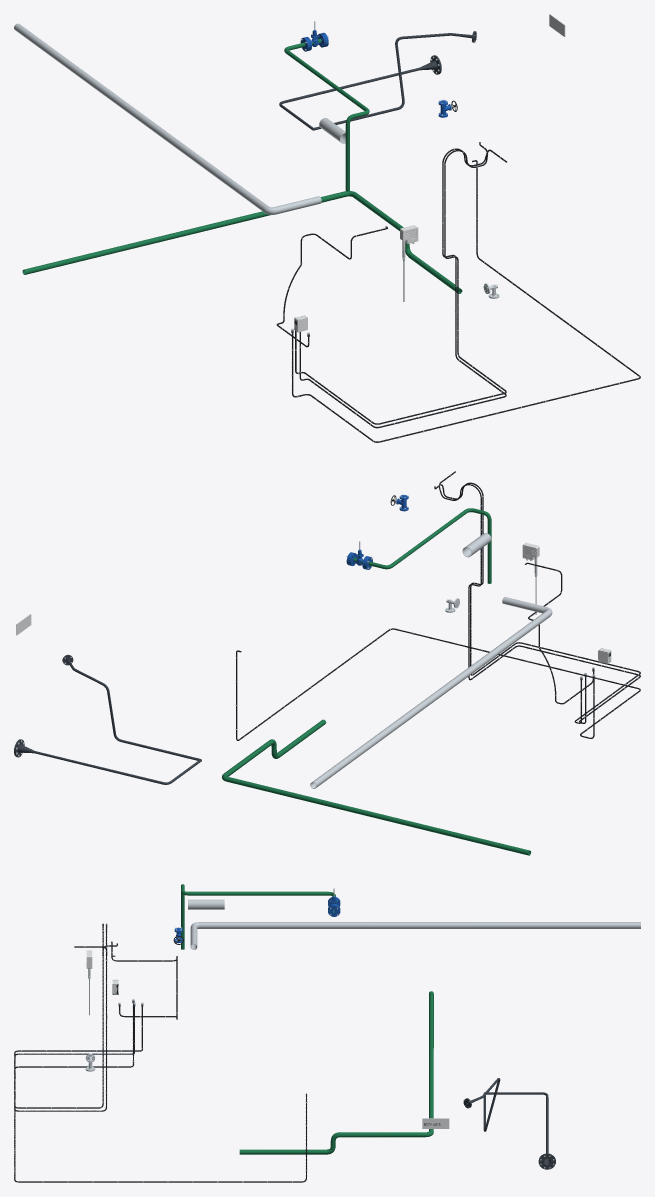
The model's file is s4000-5-B8BITiG8.glb.
3 views of the same model, one above another, from view 1: azimuth 30°, elevation 25°; view 2: azimuth 150°, elevation 25°; view 3: azimuth 270°, elevation 25° (orthographic). The views are drawn at different scales.
Parts seen in each view (by area): view 1: safety_vent_1 / steel, suction_common / green, wiring_pump_2 / black, wiring_pressure_switch_1 / black, wiring_pressure_transmitter / black, direct_inlet / green, tds_to_fv / dark, tds_without_fv / dark; view 2: safety_vent_1 / steel, suction_common / green, wiring_pump_2 / black, wiring_pressure_switch_1 / black, wiring_pressure_transmitter / black, direct_inlet / green, tds_to_fv / dark, tds_without_fv / dark; view 3: safety_vent_1 / steel, suction_common / green, wiring_pump_2 / black, wiring_pressure_transmitter / black, direct_inlet / green, wiring_pressure_switch_1 / black, tds_to_fv / dark, tds_without_fv / dark.
Part boxes in pixels (box(x1,y1,x2,y2)): safety_vent_1 / steel: box(14, 23, 321, 214); suction_common / green: box(22, 191, 462, 293); wiring_pump_2 / black: box(292, 160, 640, 442); wiring_pressure_switch_1 / black: box(299, 148, 506, 428); wiring_pressure_transmitter / black: box(295, 142, 506, 424); direct_inlet / green: box(284, 42, 369, 191); tds_to_fv / dark: box(279, 55, 441, 130); tds_without_fv / dark: box(312, 31, 476, 130); safety_vent_1 / steel: box(310, 597, 552, 788); suction_common / green: box(222, 719, 531, 855); wiring_pump_2 / black: box(236, 628, 640, 740); wiring_pressure_switch_1 / black: box(439, 471, 640, 723); wiring_pressure_transmitter / black: box(434, 482, 640, 723); direct_inlet / green: box(368, 508, 491, 583); tds_to_fv / dark: box(14, 739, 201, 784); tds_without_fv / dark: box(62, 654, 200, 760); safety_vent_1 / steel: box(190, 922, 640, 949); suction_common / green: box(239, 991, 433, 1154); wiring_pump_2 / black: box(14, 1003, 306, 1182); wiring_pressure_transmitter / black: box(14, 923, 142, 1108); direct_inlet / green: box(181, 884, 335, 949); wiring_pressure_switch_1 / black: box(14, 923, 134, 1111); tds_to_fv / dark: box(487, 1092, 555, 1169); tds_without_fv / dark: box(463, 1078, 500, 1131).
Bounding box in the file's own units: 6.14 × 2.86 × 7.03.
